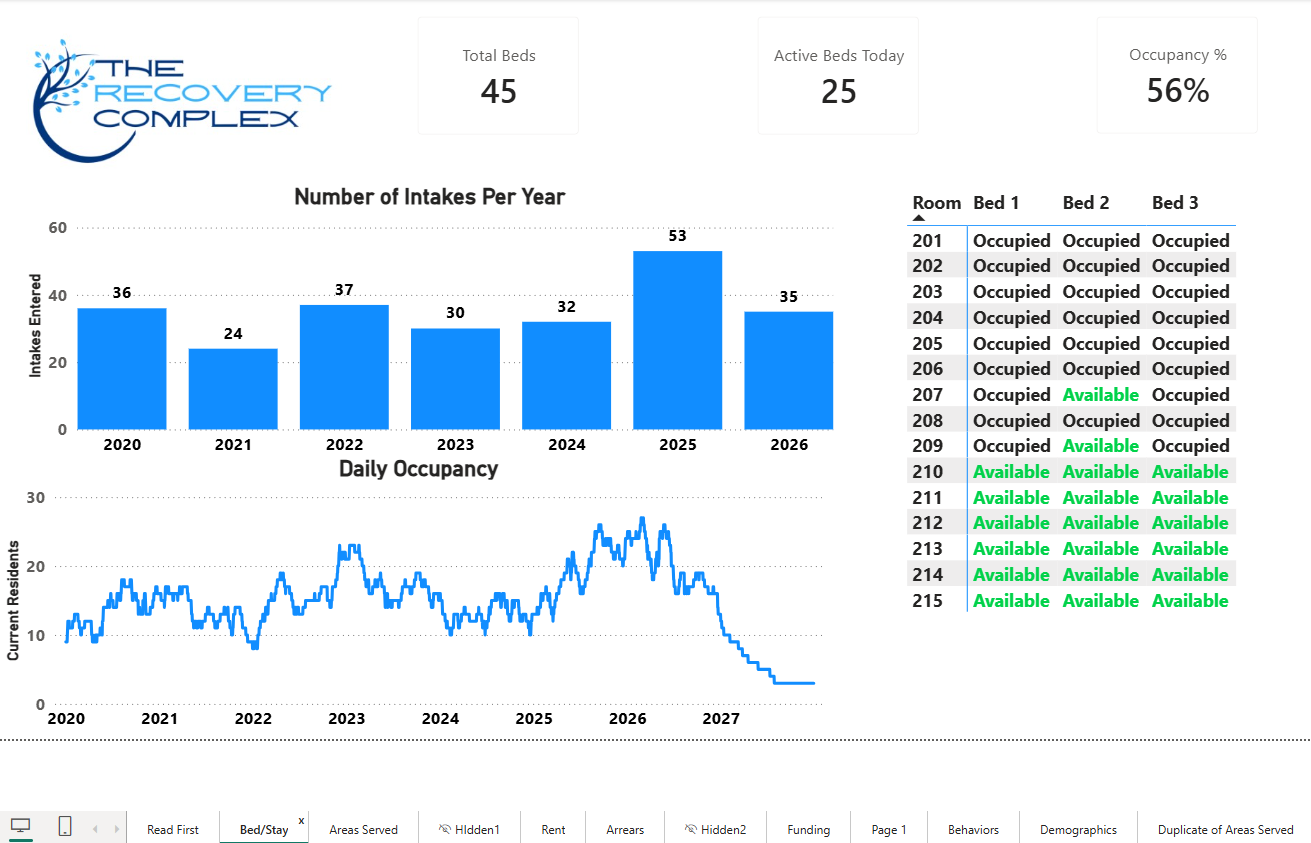

Layout of this report page (visuals, bound fields, positions):
{"tool":"powerbi","page":{"name":"Bed/Stay","canvas":[1280,720],"ordinal":1},"visuals":[{"type":"pivotTable","fields":{"Rows":["DimRoom.RoomNumber"],"Columns":["DimBed.BedLabel"],"Values":["My Measures.Bed Status"]},"box":[933.8,302.5,231.2,245],"z":0},{"type":"cardVisual","fields":{"Data":["My Measures.Active Beds Today"]},"box":[720.5,0,191,149],"z":1000},{"type":"cardVisual","fields":{"Data":["My Measures.Occupancy %"]},"box":[1050,0,191.4,148.6],"z":2000},{"type":"cardVisual","fields":{"Data":["My Measures.Total Beds"]},"box":[390.4,0,191.5,149.1],"z":3000},{"type":"image","box":[15.4,16.7,331.6,169.6],"z":4000},{"type":"pivotTable","fields":{"Rows":["DimRoom.RoomNumber"],"Columns":["DimBed.BedLabel"],"Values":["My Measures.Bed Status"]},"box":[878.8,178.8,362.5,438.8],"z":5000},{"type":"columnChart","title":"Number of Intakes Per Year","fields":{"Category":["DimDate.Year"],"Y":["CountNonNull(FactStay.StayID)"]},"box":[21.3,178.5,795.2,287.7],"z":6000},{"type":"lineChart","title":"Daily Occupancy","fields":{"Category":["DimDate.FullDate"],"Y":["My Measures.Daily Occupancy"]},"box":[0,443.5,816.5,277],"z":7000}]}

Visuals, with their boxes on the page's 1280x720 design canvas (x1, y1, x2, y2). These are canvas units, not pixel positions in the 1311x843 screenshot, which may show the page scaled, cropped or inside an application window:
pivotTable - DimRoom.RoomNumber x DimBed.BedLabel: rect(934, 302, 1165, 548)
cardVisual - My Measures.Active Beds Today: rect(720, 0, 912, 149)
cardVisual - My Measures.Occupancy %: rect(1050, 0, 1241, 149)
cardVisual - My Measures.Total Beds: rect(390, 0, 582, 149)
image: rect(15, 17, 347, 186)
pivotTable - DimRoom.RoomNumber x DimBed.BedLabel: rect(879, 179, 1241, 618)
"Number of Intakes Per Year" columnChart: rect(21, 178, 816, 466)
"Daily Occupancy" lineChart: rect(0, 444, 816, 720)
